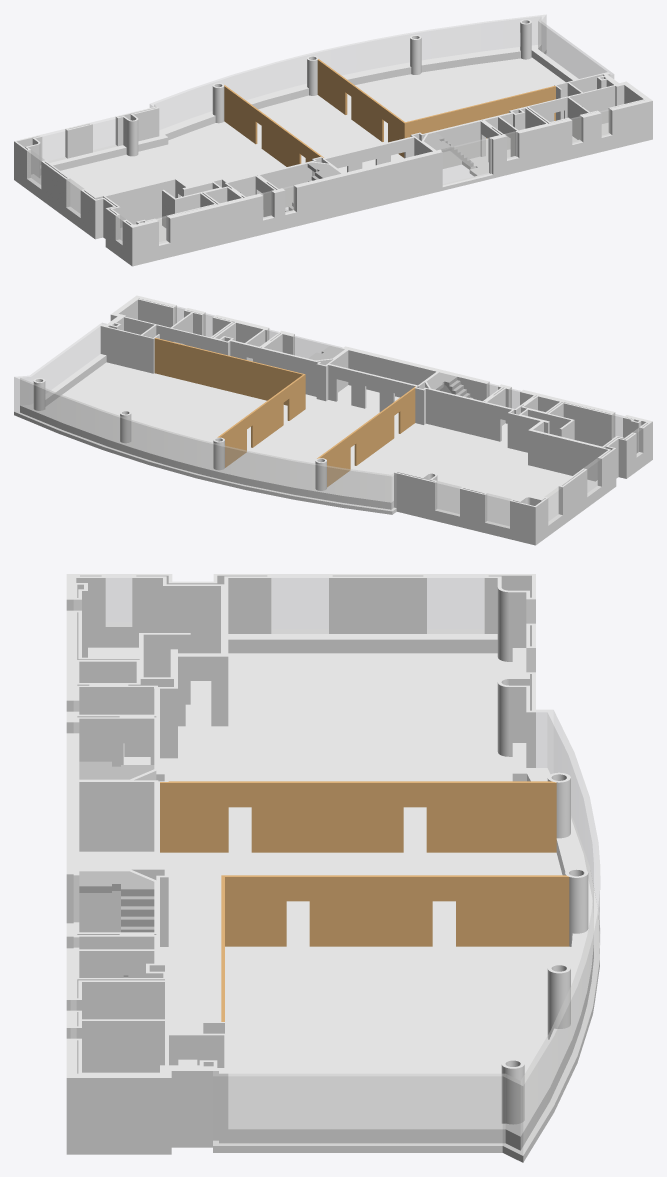
Rendered from blueprint.glb.
3 views of the same model, one above another, from view 1: azimuth 30°, elevation 25°; view 2: azimuth 150°, elevation 25°; view 3: azimuth 270°, elevation 25° (orthographic). The views are drawn at different scales.
Visible parts, largest first — view 1: inside_wall, floor, front_glass, wood_wall, in_step (2), wood_wall (1), Body43, in_step (1), Body54, Body52, stair (1), pillar1 (+6 smaller); view 2: inside_wall, floor, front_glass, wood_wall, in_step (2), wood_wall (1), Body52, Body54, stair, Body43, Body51, Body53 (+4 smaller); view 3: floor, inside_wall, front_glass, wood_wall (1), wood_wall, in_step (2), in_step, Body51, Body53, stair (1), pillar3, pillar4 (+4 smaller).
Part boxes in pixels (x1,y1,x2,y2): inside_wall: (14,72,652,262); floor: (14,50,652,266); front_glass: (150,14,613,129); wood_wall: (317,59,555,157); in_step (2): (138,44,578,151); wood_wall (1): (224,85,323,166); Body43: (441,138,490,184); in_step (1): (40,145,126,175); Body54: (41,129,67,162); Body52: (91,117,117,151); stair (1): (424,132,473,166); pillar1: (212,83,224,123); inside_wall: (100,295,652,541); floor: (14,362,652,545); front_glass: (14,323,396,510); wood_wall: (154,337,305,467); in_step (2): (20,354,393,509); wood_wall (1): (317,386,415,487); Body52: (435,481,461,516); Body54: (485,493,511,528); stair: (426,372,473,398); Body43: (293,336,341,358); Body51: (584,458,601,496); Body53: (545,486,562,524); floor: (66,647,599,1162); inside_wall: (66,574,535,1147); front_glass: (213,710,599,1155); wood_wall (1): (160,781,556,852); wood_wall: (221,875,569,1021); in_step (2): (228,743,593,1150); in_step: (228,634,497,653); Body51: (271,574,328,633); Body53: (427,574,484,633); stair (1): (79,871,154,977); pillar3: (547,963,570,1039); pillar4: (501,1059,524,1124).
Bounding box in the file's own units: 7.06 × 0.4925 × 3.11.
